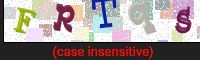F: (9, 1, 42, 35)
R: (51, 2, 80, 37)
T: (87, 1, 124, 36)
q: (129, 1, 161, 37)
s: (170, 5, 195, 37)
